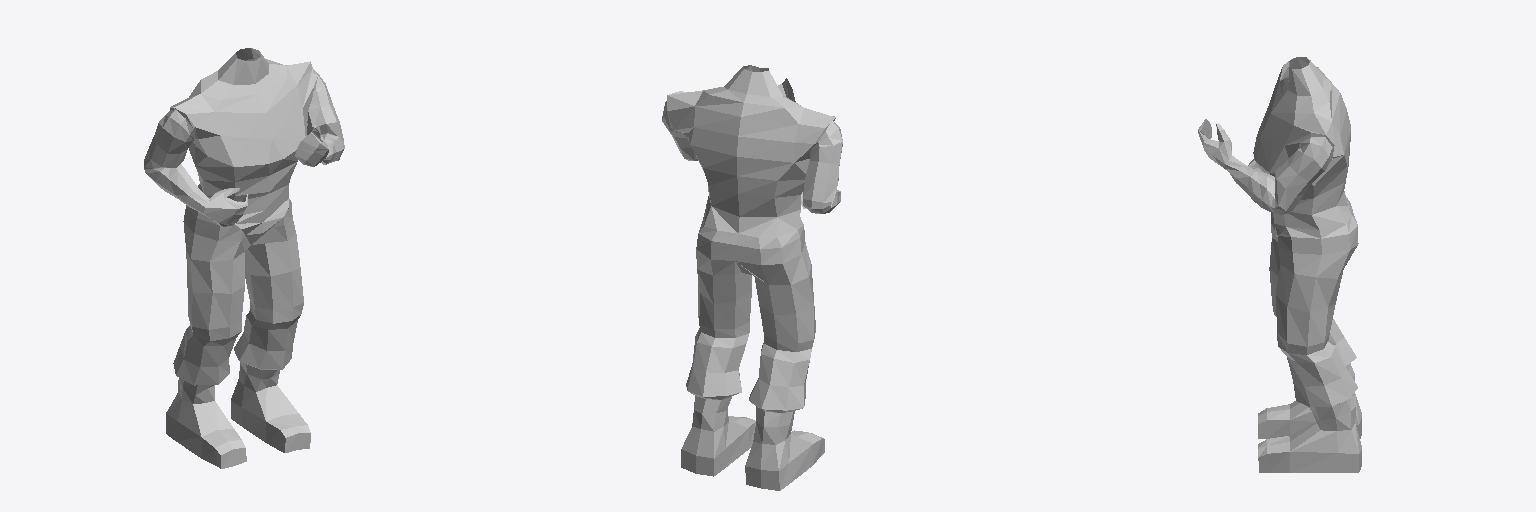
File: poss_body.obj
3 views of the same model, side by side, from view 1: azimuth 30°, elevation 25°; view 2: azimuth 150°, elevation 25°; view 3: azimuth 270°, elevation 25° (orthographic).
Parts seen in each view (by area): view 1: Group; view 2: Group; view 3: Group.
Boxes of the visible parts, box(x1,y1,x2,y2) form: Group: box(144, 48, 344, 468); Group: box(662, 65, 842, 490); Group: box(1198, 57, 1361, 472).
Bounding box in the file's own units: 24.19 × 51.61 × 19.71.